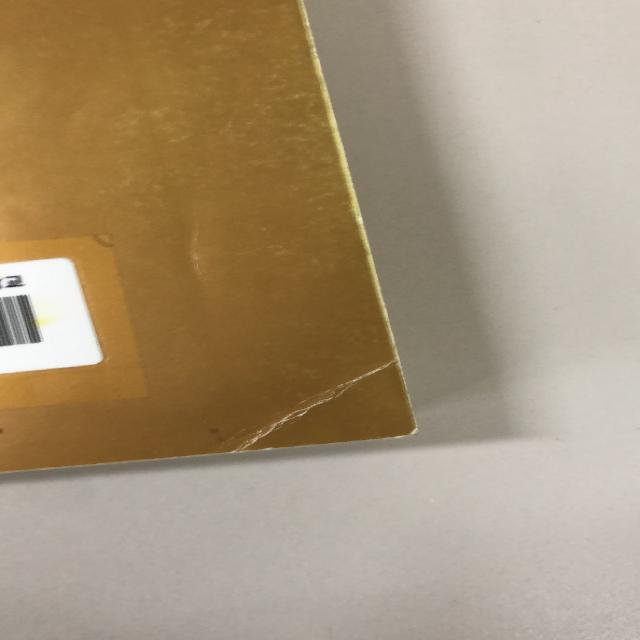Wornout: (362, 428, 431, 446)
